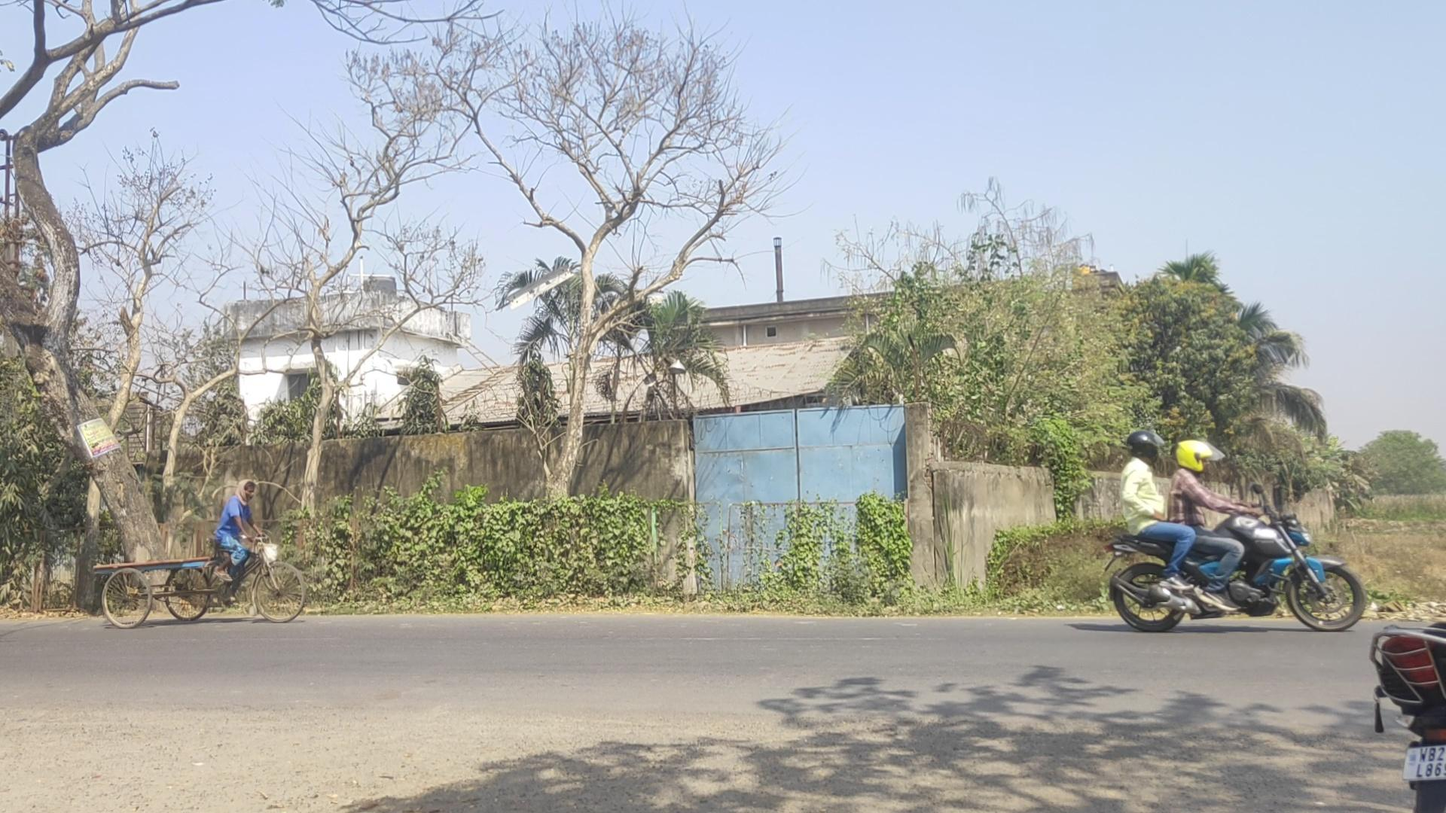bike: (1105, 430, 1367, 634)
